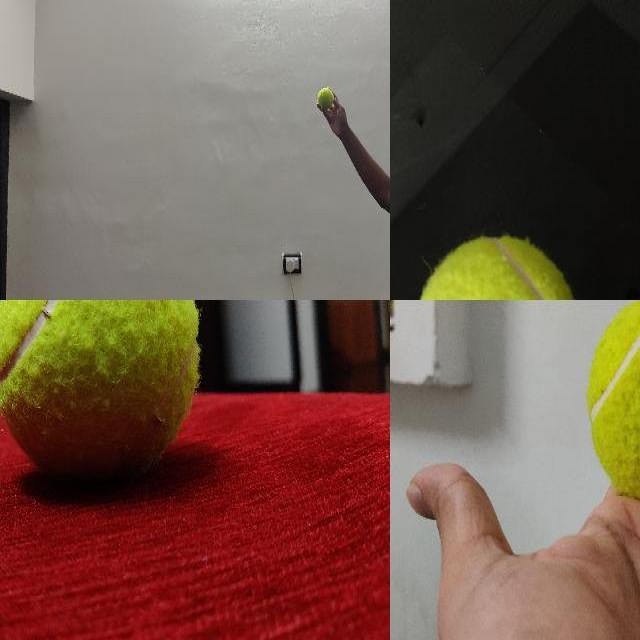tennis-ball: (0, 300, 200, 482), (586, 300, 639, 518), (410, 236, 584, 298), (317, 87, 334, 109)
